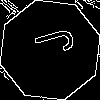J: (25, 25, 76, 62)
